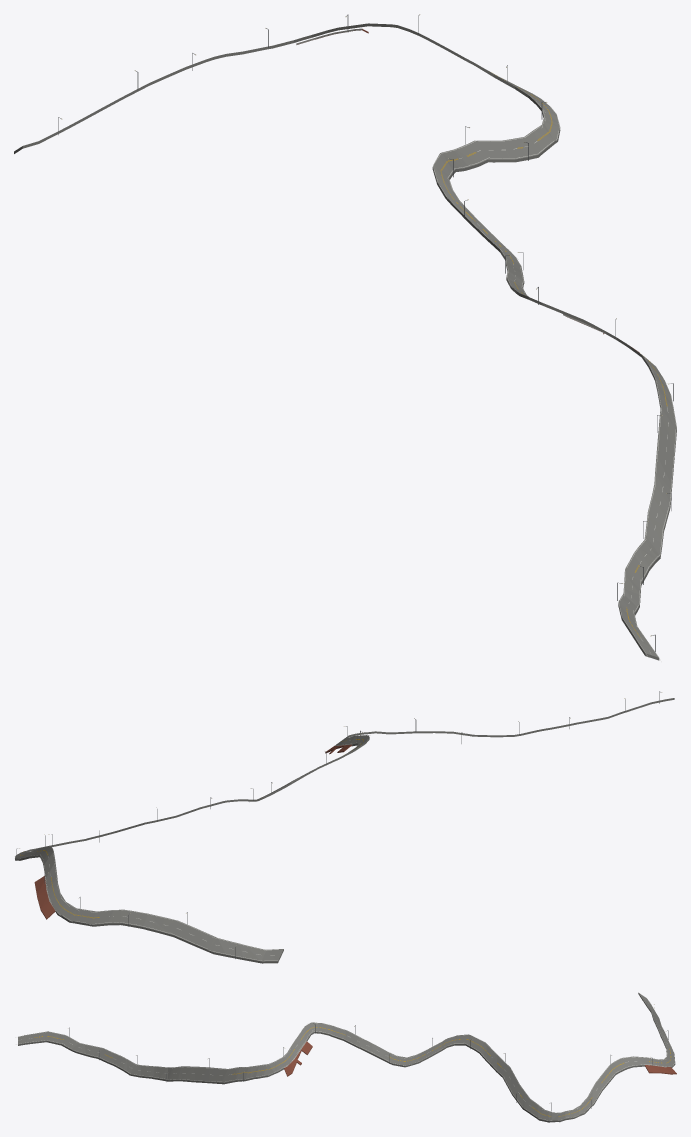
3 views of the same model, one above another, from view 1: azimuth 30°, elevation 25°; view 2: azimuth 150°, elevation 25°; view 3: azimuth 270°, elevation 25° (orthographic). The views are drawn at different scales.
Bounding box in the file's own units: 200 × 61.97 × 484.
